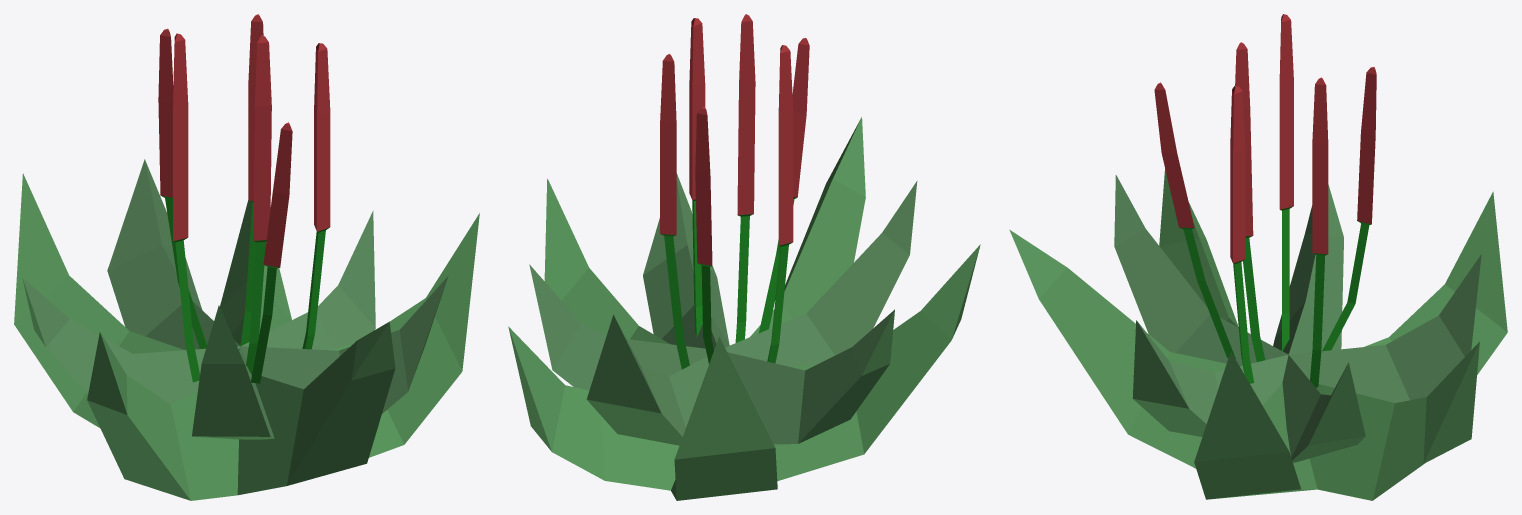
File: AloeGiza.fbx
3 renders of one model, left to right at view 1: azimuth 30°, elevation 25°; view 2: azimuth 150°, elevation 25°; view 3: azimuth 270°, elevation 25°, orthographic. The views are drawn at different scales.
Visible parts, largest first — view 1: AloeGiza; view 2: AloeGiza; view 3: AloeGiza.
Boxes of the visible parts, left/top/right/bottom form: AloeGiza: left=14, top=14, right=479, bottom=500; AloeGiza: left=508, top=14, right=980, bottom=500; AloeGiza: left=1009, top=14, right=1507, bottom=500.
Bounding box in the file's own units: 0.8946 × 0.8079 × 0.8167.
